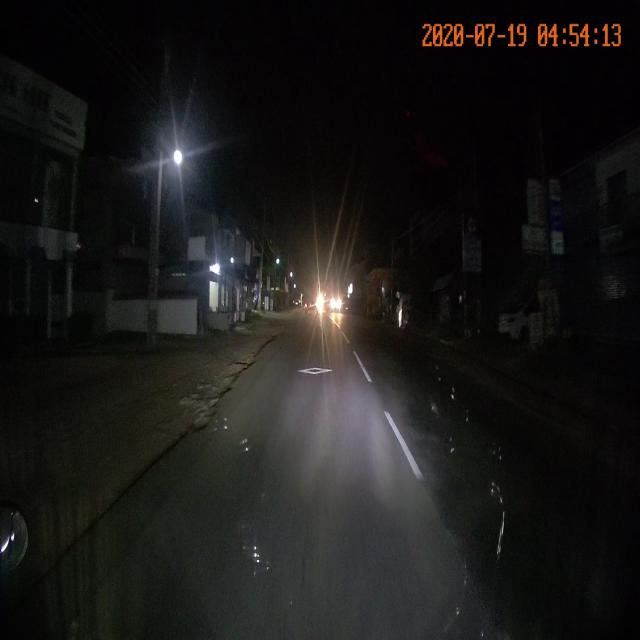Romb: (296, 367, 334, 374)
